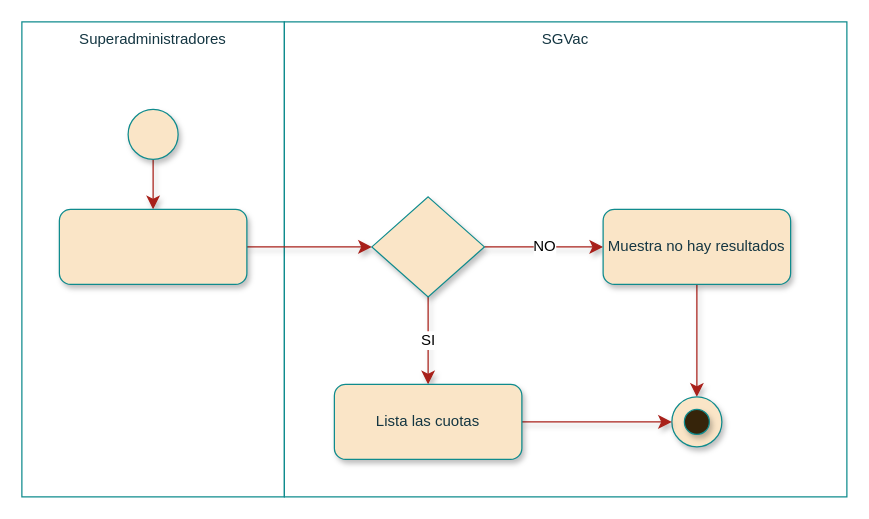
The diagram is 869 pixels wide and 519 high, and some of its shapes have lost their labels. The shapes that lost their labels are listed below. From the top down, each one's centre as x and y in pixels, then its label:
(x=153, y=248): Elige la opción de listar cuotas
(x=429, y=248): Hay resultados?
